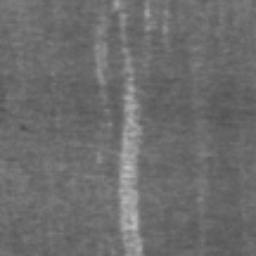White rust: (93, 0, 147, 256), (142, 0, 160, 33)
